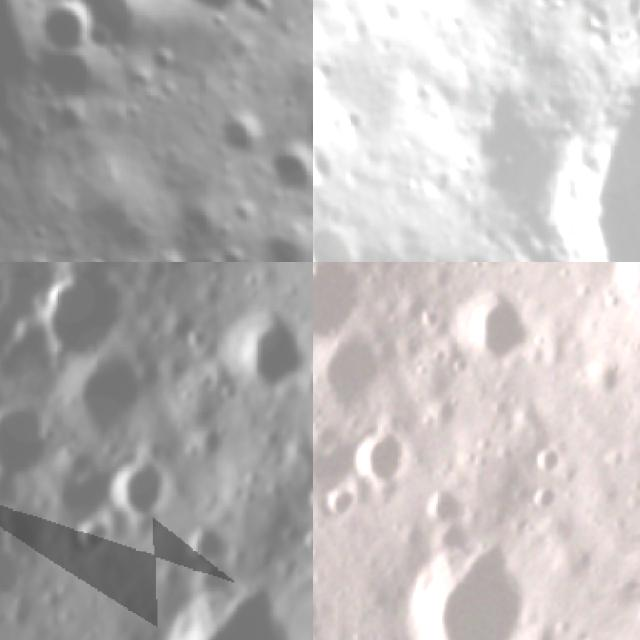crater: (500, 51, 640, 262), (313, 156, 578, 262), (365, 506, 568, 640), (113, 544, 313, 640), (40, 321, 172, 459), (9, 262, 145, 385), (88, 427, 204, 548), (208, 286, 313, 409), (442, 268, 553, 380), (313, 305, 408, 431), (335, 401, 441, 512), (0, 370, 81, 501), (28, 0, 125, 77), (313, 262, 383, 364), (53, 497, 128, 571), (174, 500, 243, 577), (416, 466, 479, 536), (313, 467, 372, 534), (265, 137, 313, 201), (257, 209, 313, 262), (210, 109, 264, 160), (313, 212, 368, 262), (171, 0, 254, 32), (442, 233, 513, 262), (601, 262, 640, 311), (210, 231, 261, 262), (141, 233, 194, 262), (313, 45, 348, 88), (75, 249, 118, 262)
